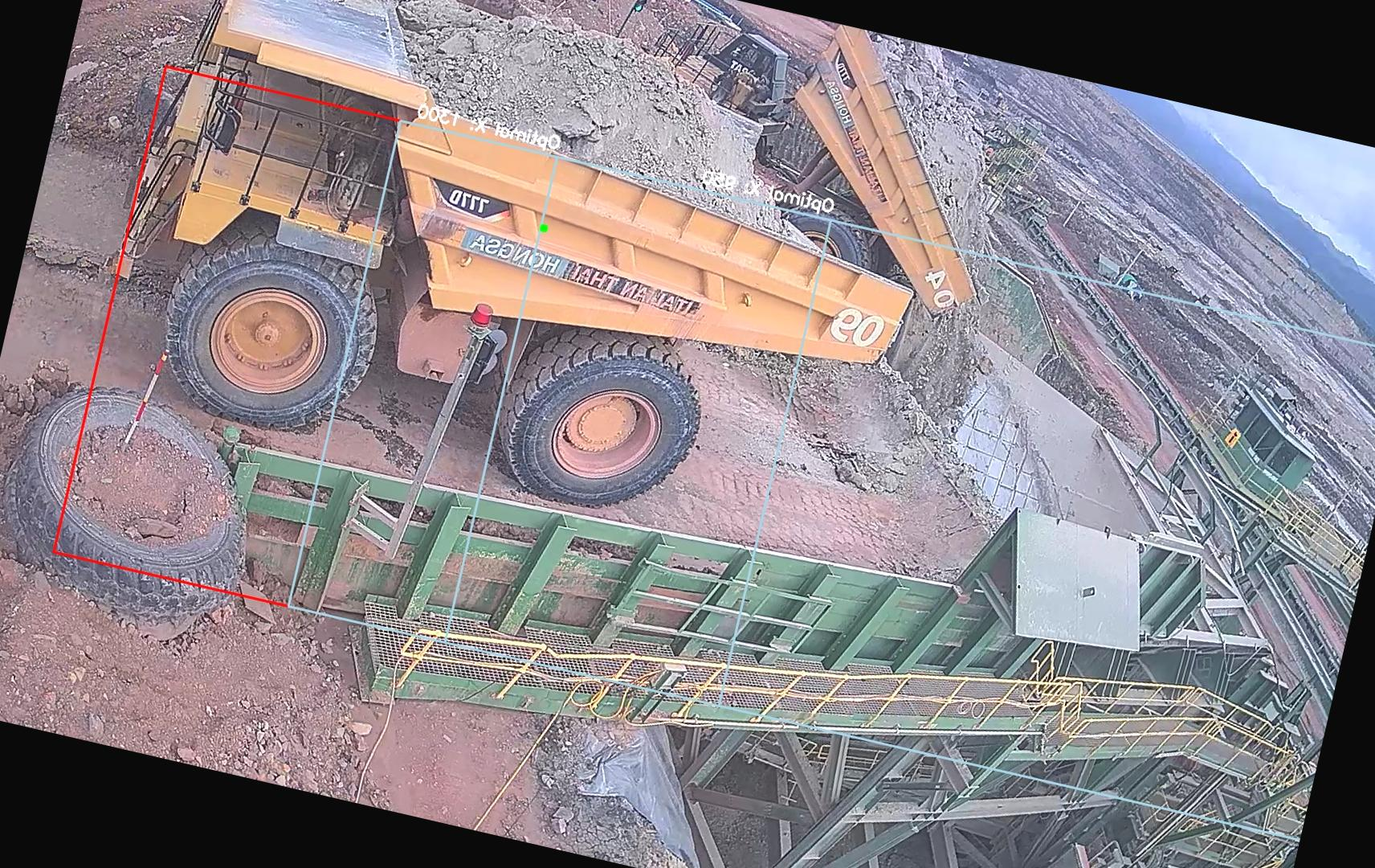company: (447, 213, 718, 320)
full_load: (429, 1, 706, 196)
mining_truck: (73, 0, 969, 559)
tail_number: (818, 295, 896, 362)
truck_size: (428, 168, 519, 229)
